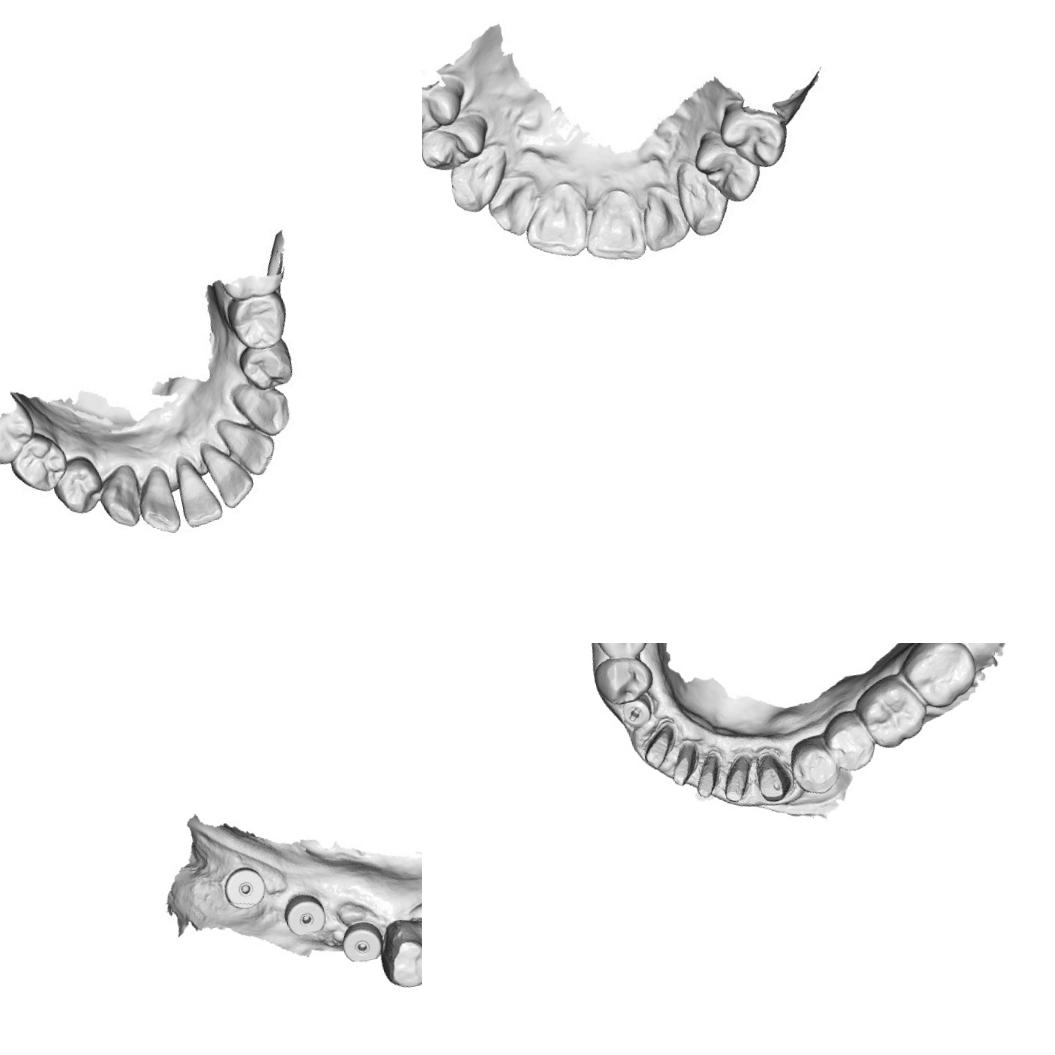canine: (441, 145, 513, 222), (675, 159, 734, 241), (230, 376, 297, 442), (95, 461, 148, 531)
crown: (747, 746, 796, 808), (632, 720, 684, 773), (714, 748, 759, 808), (662, 738, 707, 794), (686, 748, 729, 804)
implant: (219, 864, 268, 914), (280, 892, 324, 940), (340, 920, 384, 964)
implant_minus: (613, 692, 657, 732)
incisor: (575, 190, 649, 271), (520, 188, 594, 266), (216, 408, 282, 479), (197, 433, 255, 511), (482, 172, 543, 240), (636, 184, 694, 253), (133, 465, 183, 540), (176, 461, 222, 525)
molar: (850, 666, 934, 756), (893, 643, 984, 716)
premolar: (716, 97, 791, 173), (693, 124, 762, 206), (4, 425, 76, 499), (48, 451, 111, 521), (588, 648, 658, 711), (422, 111, 493, 173), (819, 704, 878, 777), (228, 286, 290, 355), (784, 730, 844, 800), (233, 334, 300, 396), (377, 920, 422, 995), (422, 75, 468, 136), (586, 643, 655, 666)
